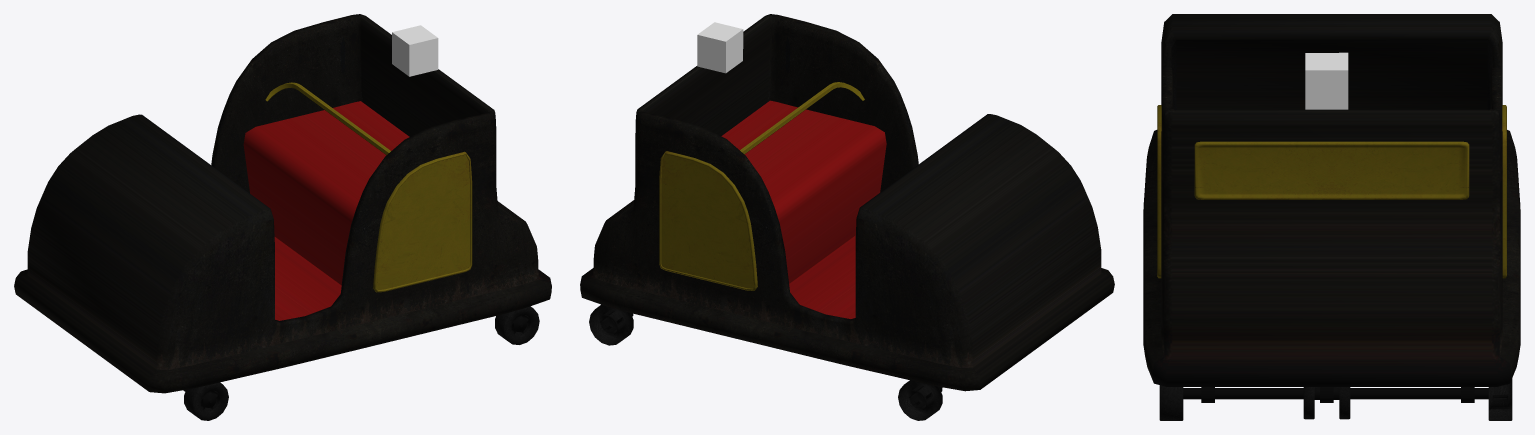
The model's file is Car02.FBX.
3 views of the same model, side by side, from view 1: azimuth 30°, elevation 25°; view 2: azimuth 150°, elevation 25°; view 3: azimuth 270°, elevation 25° (orthographic). The views are drawn at different scales.
Visible parts, largest first — view 1: Box341, Box347, Cylinder248, Cylinder250, Rectangle215; view 2: Box341, Box347, Cylinder220, Cylinder255, Rectangle215; view 3: Box341, Cylinder252, Box347, Cylinder253, Cylinder255, Cylinder250.
Boxes of the visible parts, x1,y1,x2,y2 form: Box341: [14, 14, 551, 393]; Box347: [392, 25, 438, 76]; Cylinder248: [184, 382, 228, 420]; Cylinder250: [495, 306, 539, 344]; Rectangle215: [265, 82, 390, 155]; Box341: [580, 14, 1114, 391]; Box347: [697, 22, 743, 73]; Cylinder220: [898, 380, 942, 420]; Cylinder255: [589, 304, 633, 345]; Rectangle215: [740, 82, 864, 154]; Box341: [1143, 14, 1520, 386]; Cylinder252: [1183, 388, 1488, 399]; Box347: [1305, 52, 1348, 109]; Cylinder253: [1303, 387, 1350, 419]; Cylinder255: [1488, 378, 1512, 420]; Cylinder250: [1159, 385, 1183, 420].
Bounding box in the file's own units: 146 × 93.43 × 95.86.
